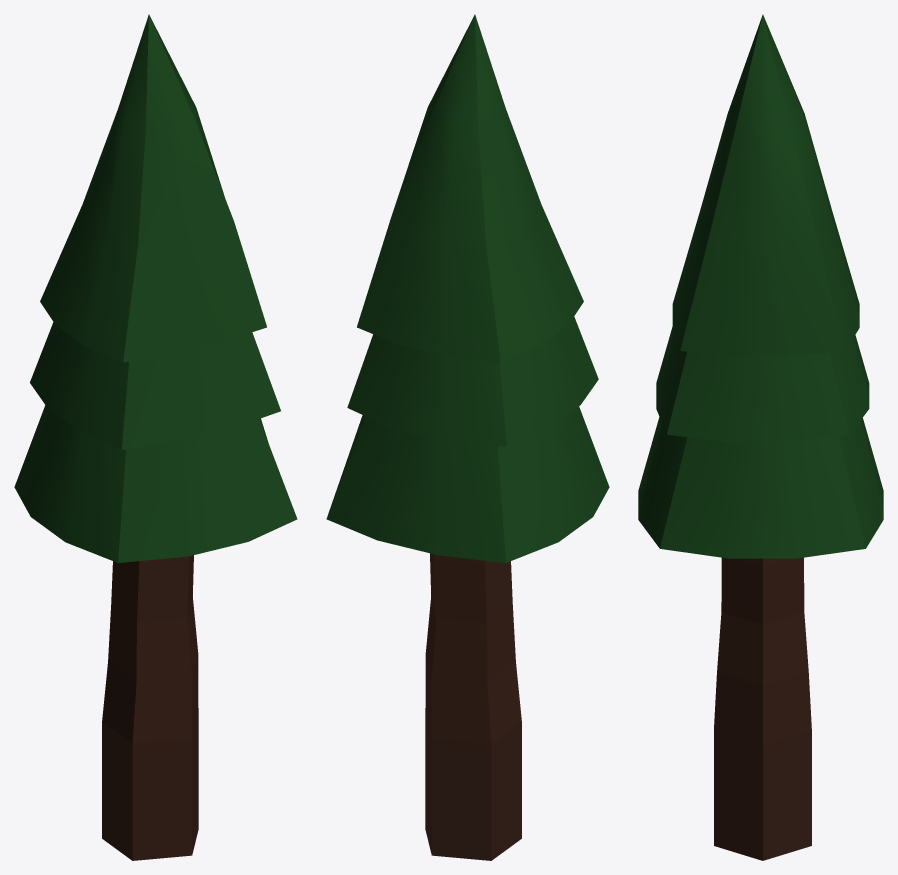
The model's file is Tree-1.FBX.
3 views of the same model, side by side, from view 1: azimuth 30°, elevation 25°; view 2: azimuth 150°, elevation 25°; view 3: azimuth 270°, elevation 25° (orthographic).
Visible parts, largest first — view 1: Pyramid003, Pyramid001, Cylinder001, Pyramid002; view 2: Pyramid003, Pyramid001, Cylinder001, Pyramid002; view 3: Pyramid003, Cylinder001, Pyramid001, Pyramid002.
Boxes of the visible parts, bbox=[...] form: Pyramid003: bbox=[40, 14, 266, 362]; Pyramid001: bbox=[14, 405, 297, 562]; Cylinder001: bbox=[102, 555, 198, 860]; Pyramid002: bbox=[30, 322, 280, 449]; Pyramid003: bbox=[357, 14, 583, 362]; Pyramid001: bbox=[326, 406, 609, 562]; Cylinder001: bbox=[425, 553, 521, 860]; Pyramid002: bbox=[347, 316, 598, 446]; Pyramid003: bbox=[672, 14, 859, 356]; Cylinder001: bbox=[714, 557, 811, 860]; Pyramid001: bbox=[638, 417, 883, 558]; Pyramid002: bbox=[656, 327, 869, 442].
Size of the model in its own units: 24.26 by 88.16 by 23.82.
